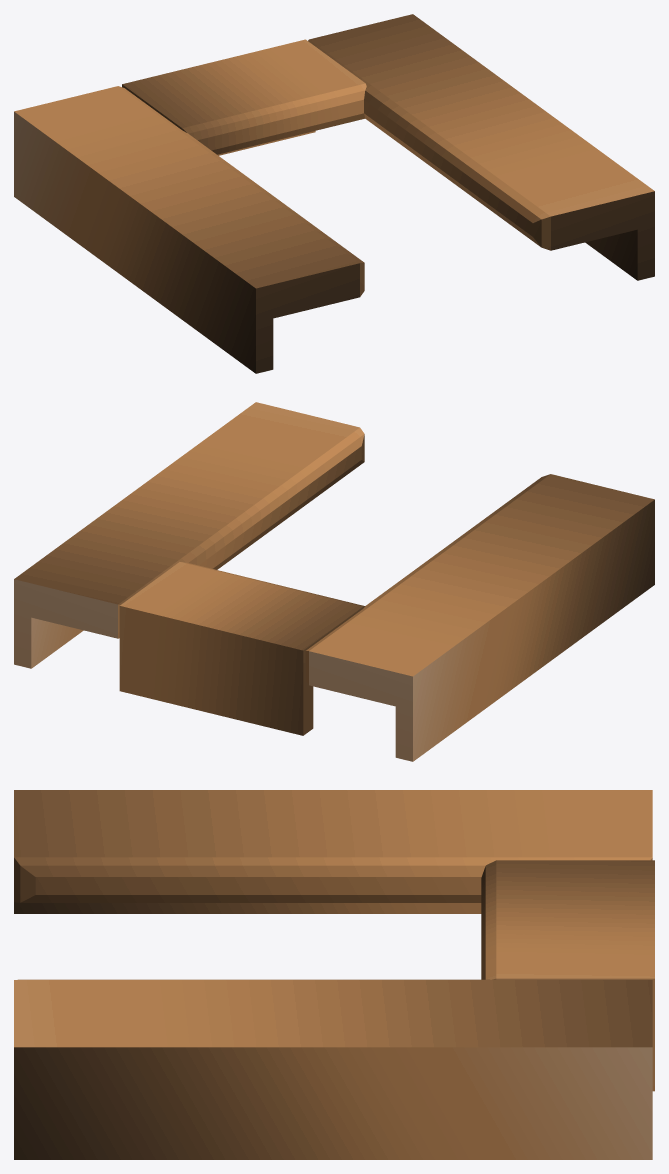
File: SM_BlockoutBench.fbx
3 views of the same model, one above another, from view 1: azimuth 30°, elevation 25°; view 2: azimuth 150°, elevation 25°; view 3: azimuth 270°, elevation 25° (orthographic). The views are drawn at different scales.
Parts seen in each view (by area): view 1: bench; view 2: bench; view 3: bench.
Part boxes in pixels (<box>): bench: <box>14,14,654,373</box>; bench: <box>14,402,654,761</box>; bench: <box>14,790,654,1159</box>.
Bounding box in the file's own units: 22.83 × 4.67 × 24.06.
